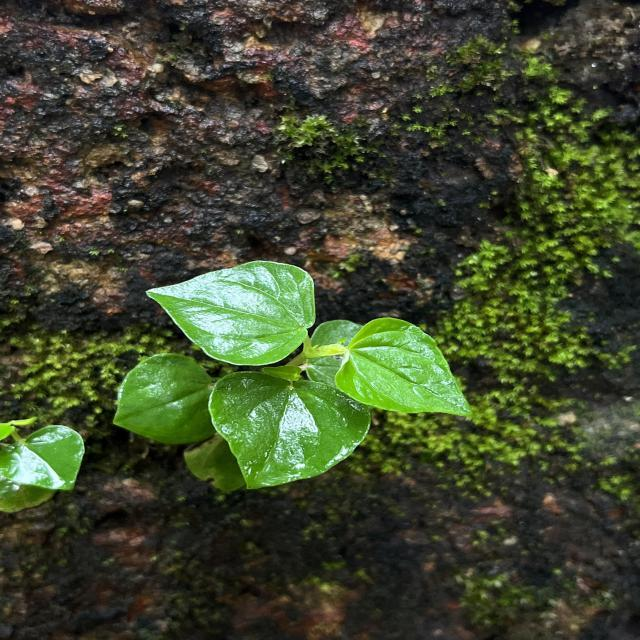Peperomia pellucida: (205, 370, 374, 490), (145, 259, 317, 366), (332, 316, 476, 418)
